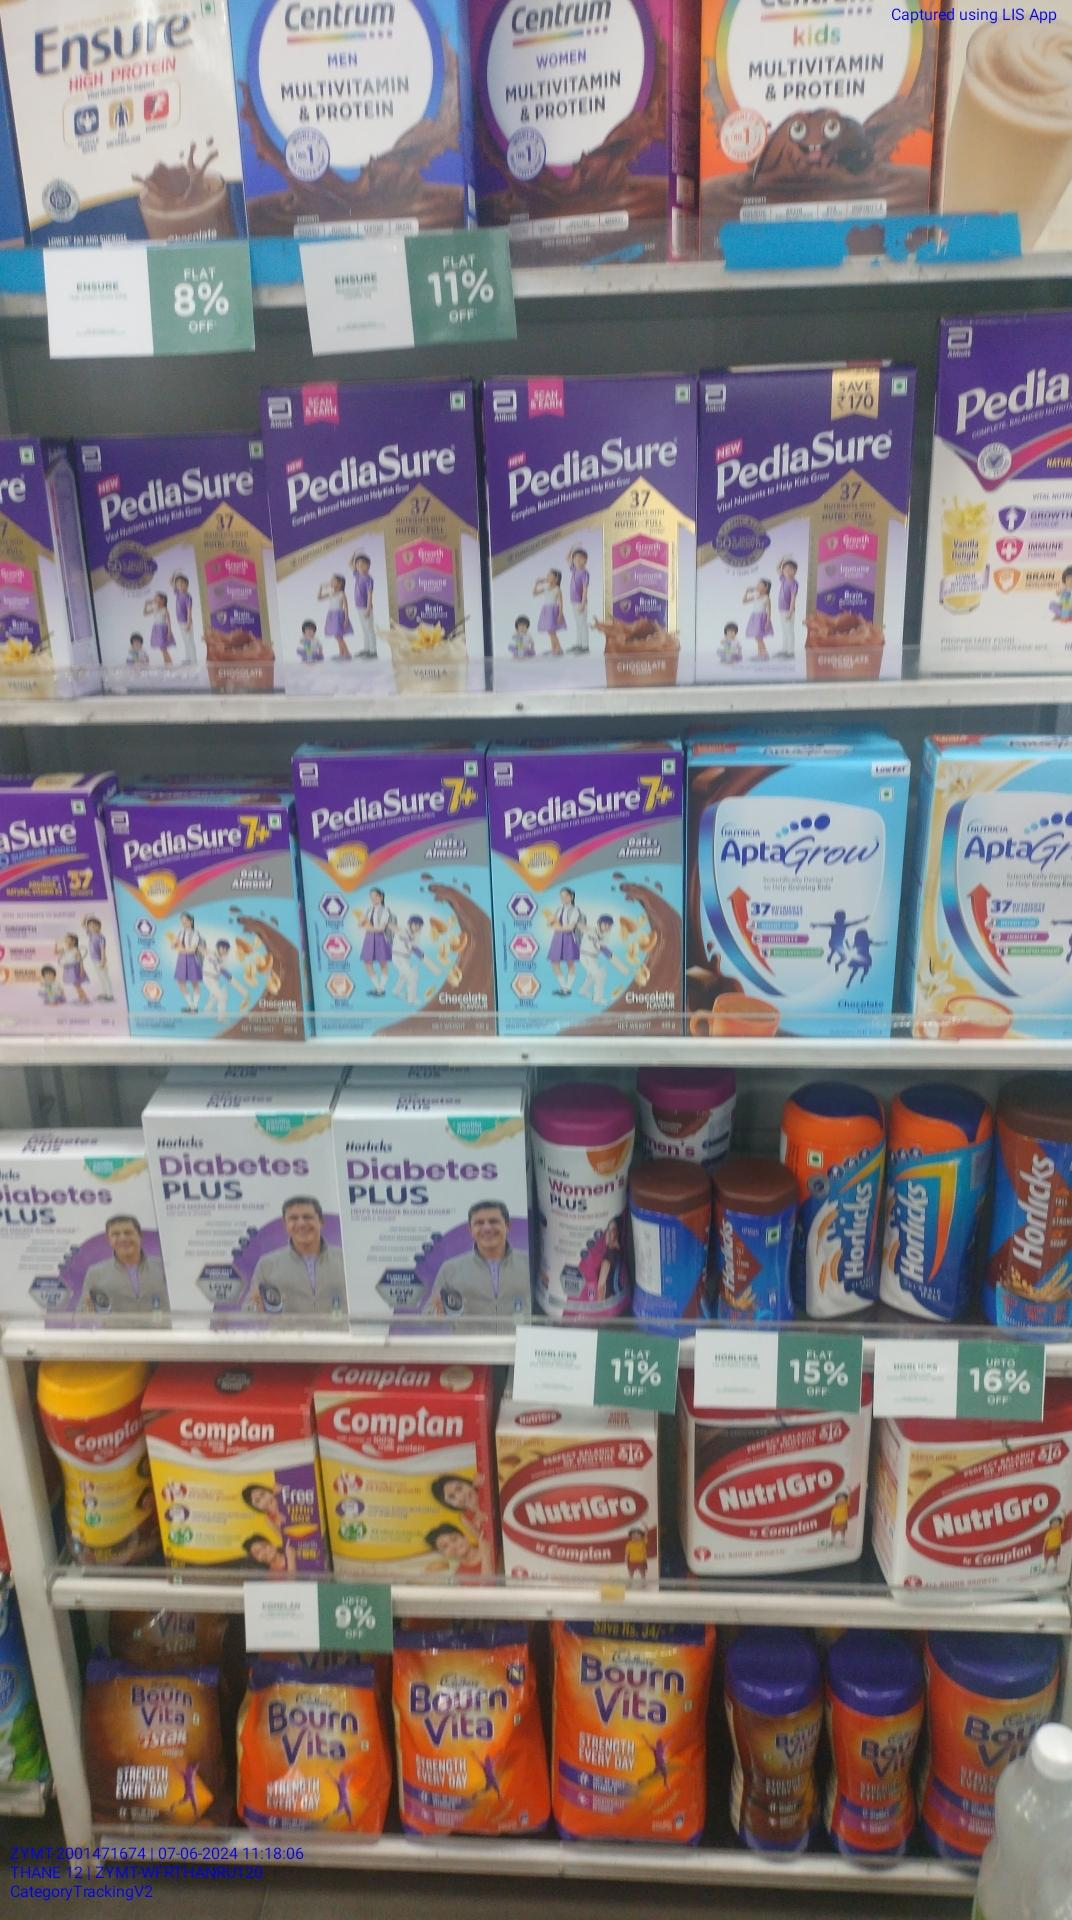BOURN_VITA_1_KG_JAR: (928, 1647, 1023, 1875)
BOURN_VITA_500_G_JAR: (828, 1665, 920, 1875)
BOURN_VITA_500_G_POUCH: (240, 1673, 372, 1846)
BOURN_VITA_750_G_POUCH: (396, 1633, 543, 1846)
BOURN_VITA_FIVE_STAR_MAGIC_500_G_JAR: (730, 1660, 816, 1858)
BOURN_VITA_FIVE_STAR_MAGIC_500_G_POUCH: (88, 1671, 224, 1837)
COMPLAN_CHOCOLATE_500_GMS_JAR: (50, 1374, 148, 1573)
COMPLAN_CHOCOLATE_500_GMS_PACK: (154, 1399, 309, 1573)
COMPLAN_KESAR_BADAM_500_GMS_PACK: (326, 1390, 488, 1588)
HORLICK_CHOCOLATE_200_G_JAR: (719, 1179, 794, 1328)
HORLICK_CHOCOLATE_500_G_JAR: (999, 1098, 1072, 1335)
HORLICK_CLASSIC_MALT_500_G_JAR: (889, 1089, 981, 1321), (800, 1095, 879, 1321)
PEDIASURE_7_PLUS_CHOCOLATE_400_G_PACK: (493, 750, 682, 1034), (306, 756, 487, 1039)
PEDIASURE_CHOCOLATE_500_G_PACK: (489, 375, 691, 687), (699, 377, 898, 680)
PEDIASURE_VANILLA_500_G_PACK: (268, 390, 487, 692)
